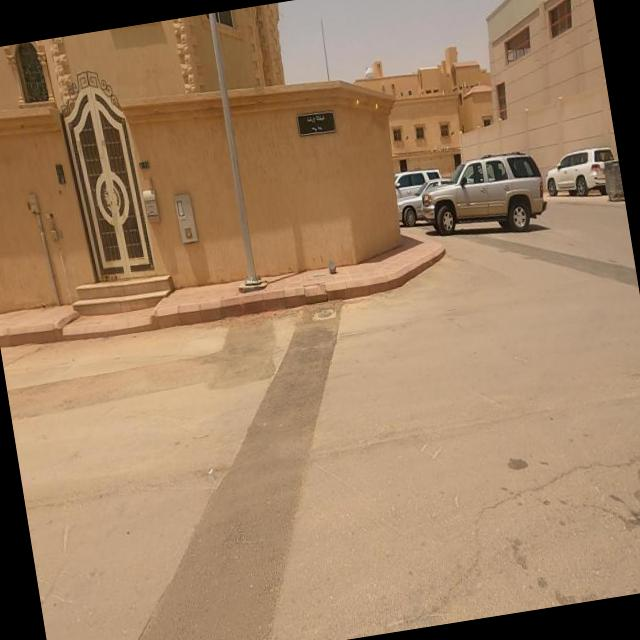debris: (314, 233, 358, 298)
